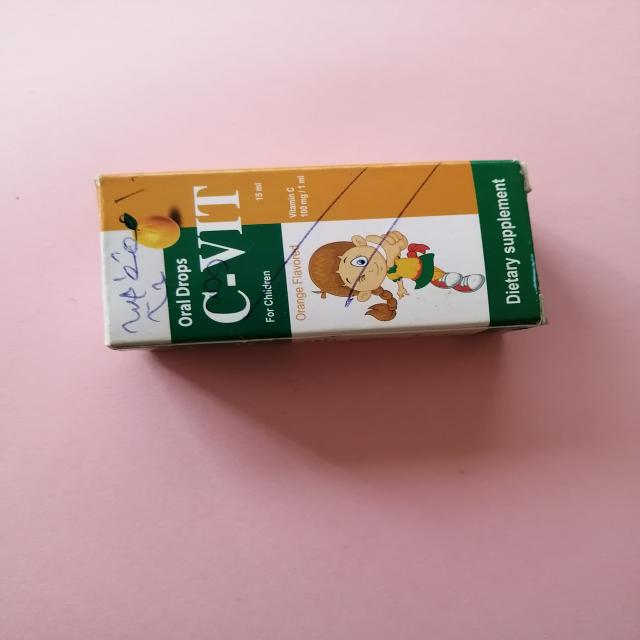C-VIT: (76, 141, 538, 379)
